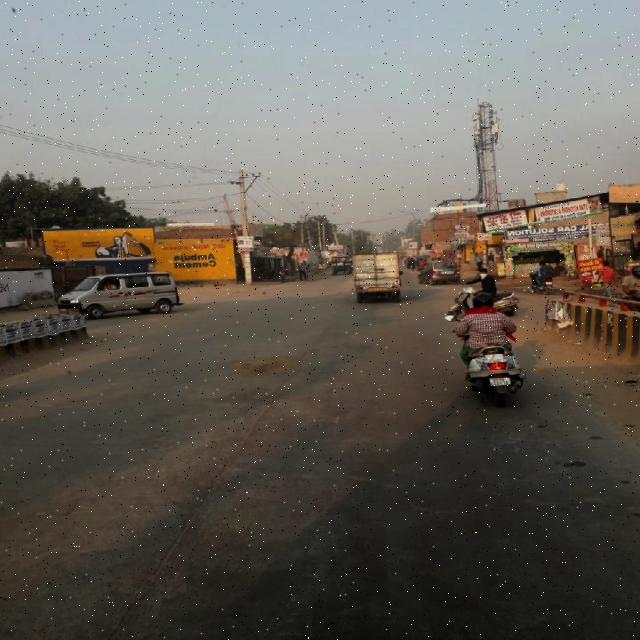D01: (116, 328, 310, 636)
